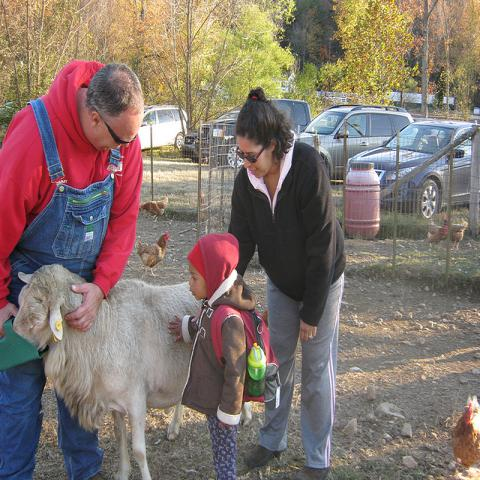car: (348, 119, 474, 214), (296, 100, 416, 181), (182, 110, 238, 164), (137, 105, 188, 150), (270, 100, 313, 136)
